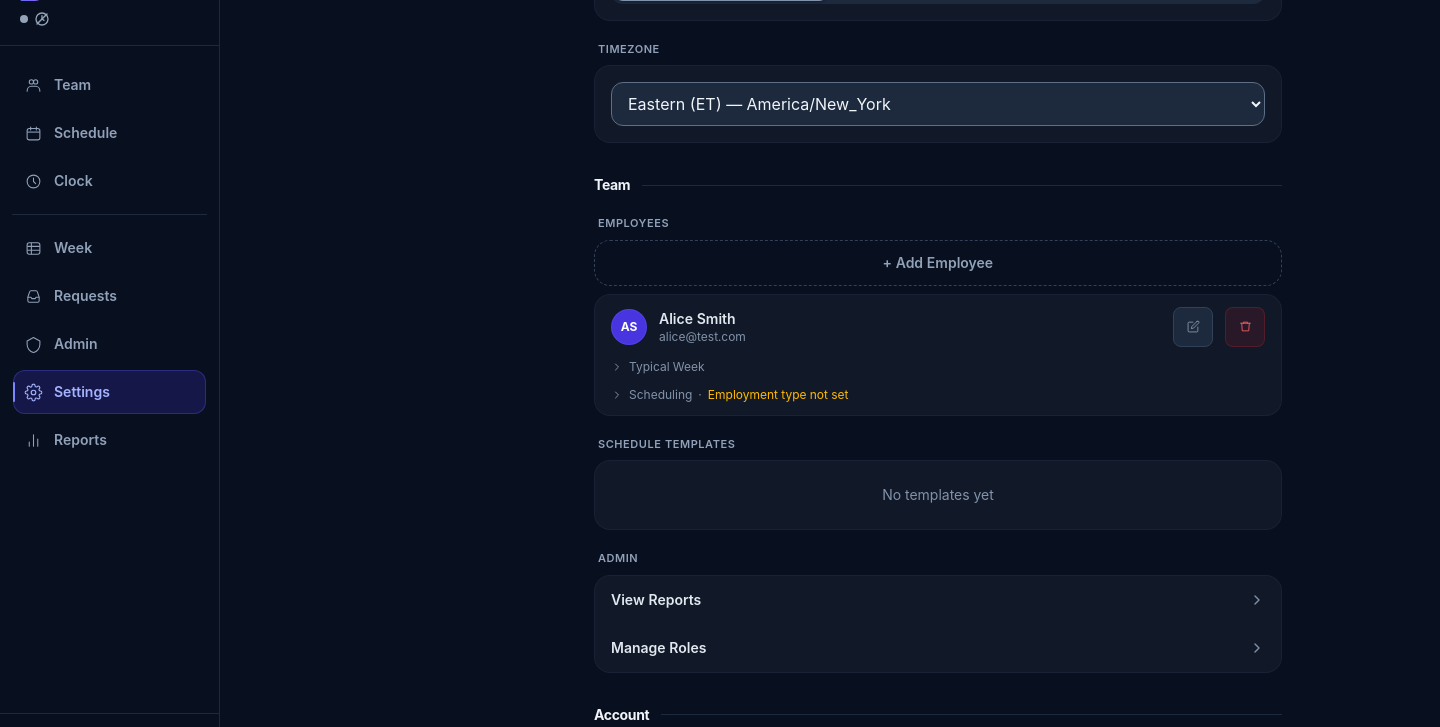
EmployeeAvailabilityRow in SettingsPageClient › shows time range and availability bar for Window records
(page scrolled)
What coordinates should you click on to do the following:
click the button with aria-label "Toggle typical week"
I would click on:
 (658, 366)
Its box is 611,350 -> 705,382.
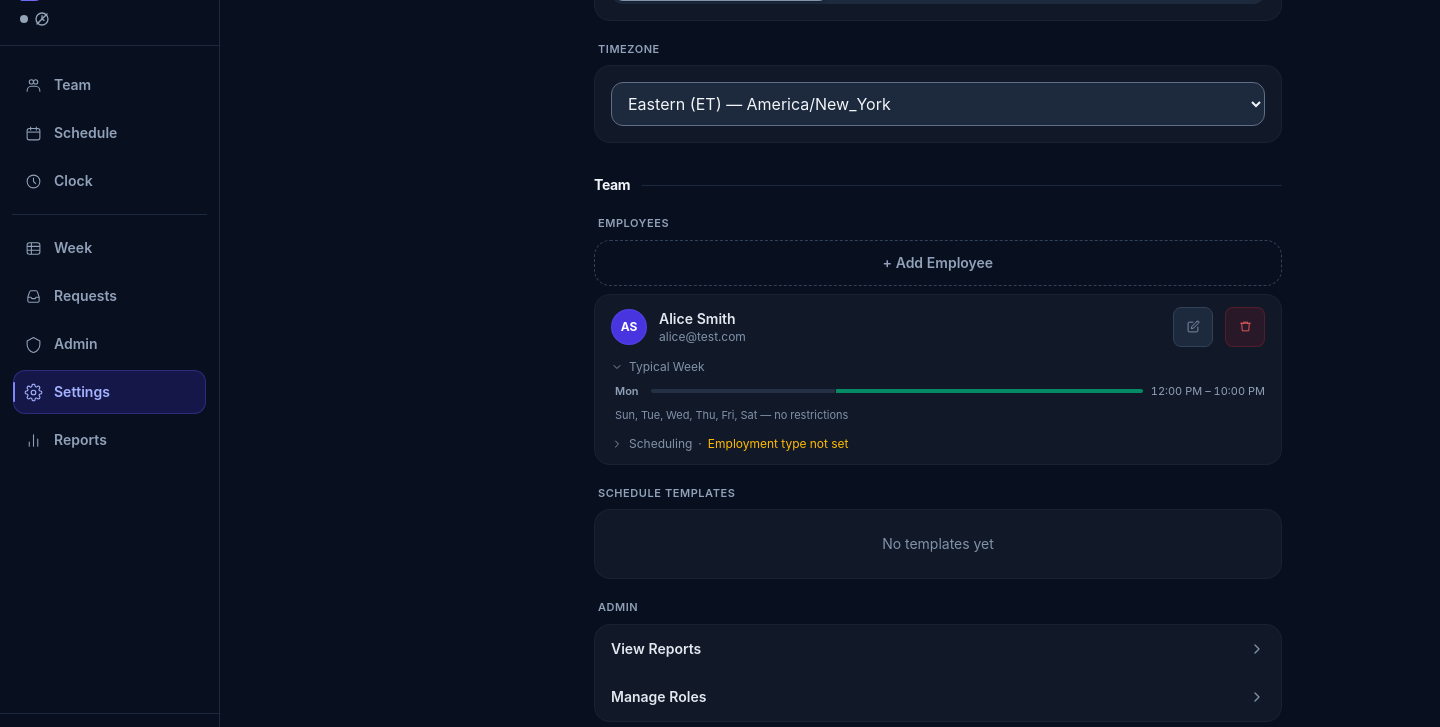
Result: the text "12:00 PM – 10:00 PM" is shown at 1151,382 -> 1265,399
Result: the element named "Mon availability bar" is shown at 651,389 -> 1143,393
